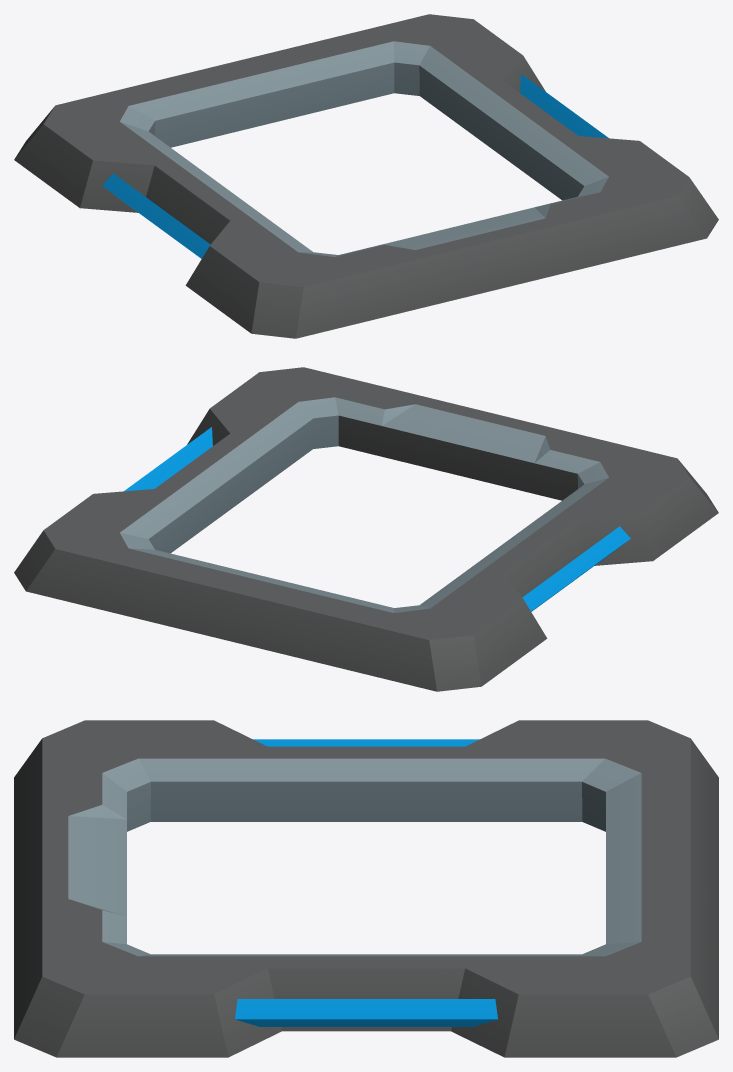
File: Hatch_012.fbx
3 renders of one model, top to bottom at view 1: azimuth 30°, elevation 25°; view 2: azimuth 150°, elevation 25°; view 3: azimuth 270°, elevation 25°, orthographic. The views are drawn at different scales.
Parts seen in each view (by area): view 1: Hatch_012; view 2: Hatch_012; view 3: Hatch_012.
Boxes of the visible parts, x1,y1,x2,y2 form: Hatch_012: (14, 14, 718, 338); Hatch_012: (14, 367, 718, 691); Hatch_012: (14, 720, 718, 1057).
Size of the model in its own units: 100 by 100 by 8.
